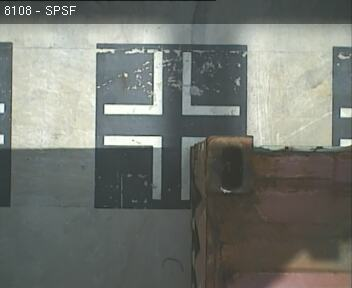groundmarker_1: (103, 51, 239, 115), (104, 136, 204, 199)
